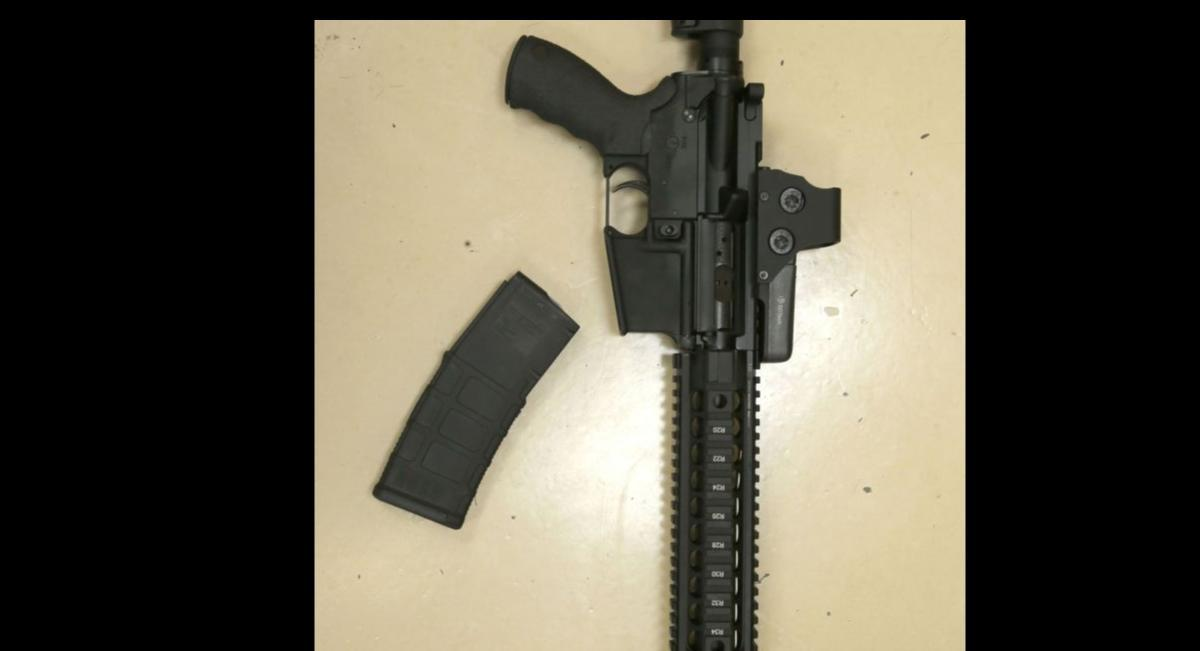larga: (505, 21, 846, 651)
